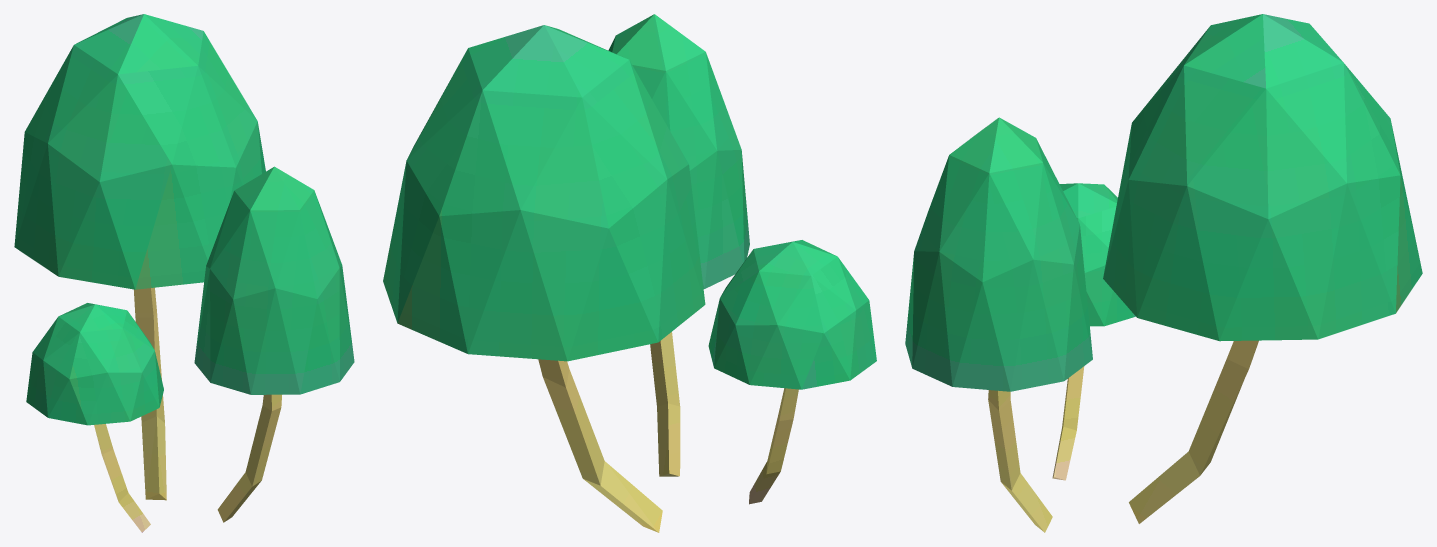
File: cozy_mushroom_2 Textured.fbx
3 views of the same model, side by side, from view 1: azimuth 30°, elevation 25°; view 2: azimuth 150°, elevation 25°; view 3: azimuth 270°, elevation 25° (orthographic). The views are drawn at different scales.
Visible parts, largest first — view 1: Plane_001, Plane_002, Plane; view 2: Plane_001, Plane, Plane_002; view 3: Plane_001, Plane_002, Plane.
Part boxes in pixels (<box>): Plane_001: <box>14,14,265,500</box>; Plane_002: <box>194,166,354,522</box>; Plane: <box>26,303,163,532</box>; Plane_001: <box>383,25,705,532</box>; Plane: <box>708,240,876,504</box>; Plane_002: <box>608,14,749,476</box>; Plane_001: <box>1103,14,1422,523</box>; Plane_002: <box>905,117,1092,532</box>; Plane: <box>1052,183,1135,480</box>.
Bounding box in the file's own units: 359 × 512 × 456.
1 material, 1 textured.
